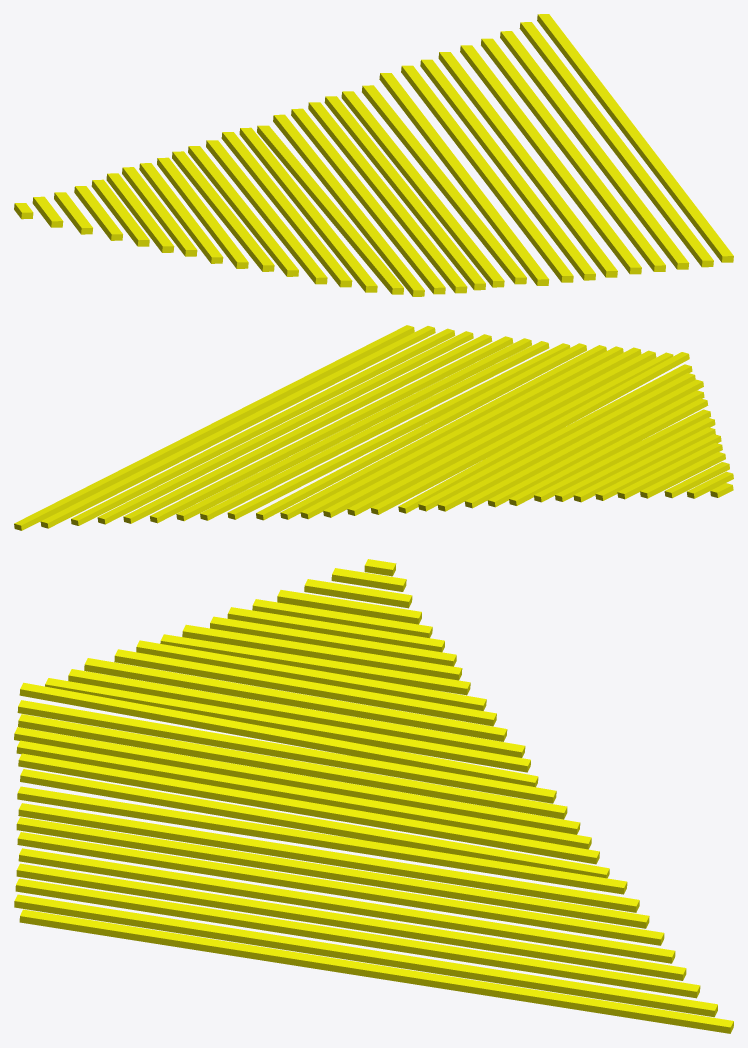
Rendered from champ.fbx.
3 renders of one model, top to bottom at view 1: azimuth 30°, elevation 25°; view 2: azimuth 150°, elevation 25°; view 3: azimuth 270°, elevation 25°, orthographic. The views are drawn at different scales.
Visible parts, largest first — view 1: champ, Cube__1_, Cube__2_, Cube__3_, Cube__4_, Cube__5_, Cube__7_, Cube__8_, Cube__9_, Cube__10_, Cube__11_, Cube__12_ (+17 smaller); view 2: champ, Cube__1_, Cube__2_, Cube__3_, Cube__4_, Cube__5_, Cube__7_, Cube__8_, Cube__10_, Cube__9_, Cube__13_, Cube__14_ (+17 smaller); view 3: champ, Cube__1_, Cube__2_, Cube__3_, Cube__4_, Cube__5_, Cube__7_, Cube__8_, Cube__9_, Cube__11_, Cube__10_, Cube__14_ (+17 smaller).
Boxes of the visible parts, box(x1,y1,x2,y2) form: champ: box(537, 14, 733, 262); Cube__1_: box(519, 22, 713, 267); Cube__2_: box(500, 31, 689, 269); Cube__3_: box(481, 38, 665, 271); Cube__4_: box(460, 45, 641, 274); Cube__5_: box(438, 52, 617, 277); Cube__7_: box(420, 59, 595, 280); Cube__8_: box(401, 65, 573, 282); Cube__9_: box(379, 73, 549, 285); Cube__10_: box(362, 85, 526, 284); Cube__11_: box(341, 91, 504, 287); Cube__12_: box(324, 96, 485, 290); champ: box(14, 325, 414, 530); Cube__1_: box(40, 326, 435, 528); Cube__2_: box(71, 328, 455, 525); Cube__3_: box(97, 331, 473, 524); Cube__4_: box(123, 334, 492, 523); Cube__5_: box(150, 336, 513, 523); Cube__7_: box(176, 338, 531, 521); Cube__8_: box(200, 341, 549, 520); Cube__10_: box(256, 343, 586, 520); Cube__9_: box(227, 343, 570, 519); Cube__13_: box(323, 347, 641, 517); Cube__14_: box(347, 350, 656, 515); champ: box(19, 909, 733, 1033); Cube__1_: box(14, 894, 717, 1017); Cube__2_: box(15, 878, 700, 998); Cube__3_: box(16, 863, 686, 980); Cube__4_: box(18, 848, 675, 963); Cube__5_: box(17, 832, 664, 945); Cube__7_: box(16, 817, 649, 928); Cube__8_: box(18, 803, 639, 912); Cube__9_: box(17, 786, 627, 894); Cube__11_: box(18, 753, 599, 864); Cube__10_: box(20, 769, 609, 878); Cube__14_: box(18, 714, 567, 819).
Size of the model in its own units: 379 by 51.97 by 314.
